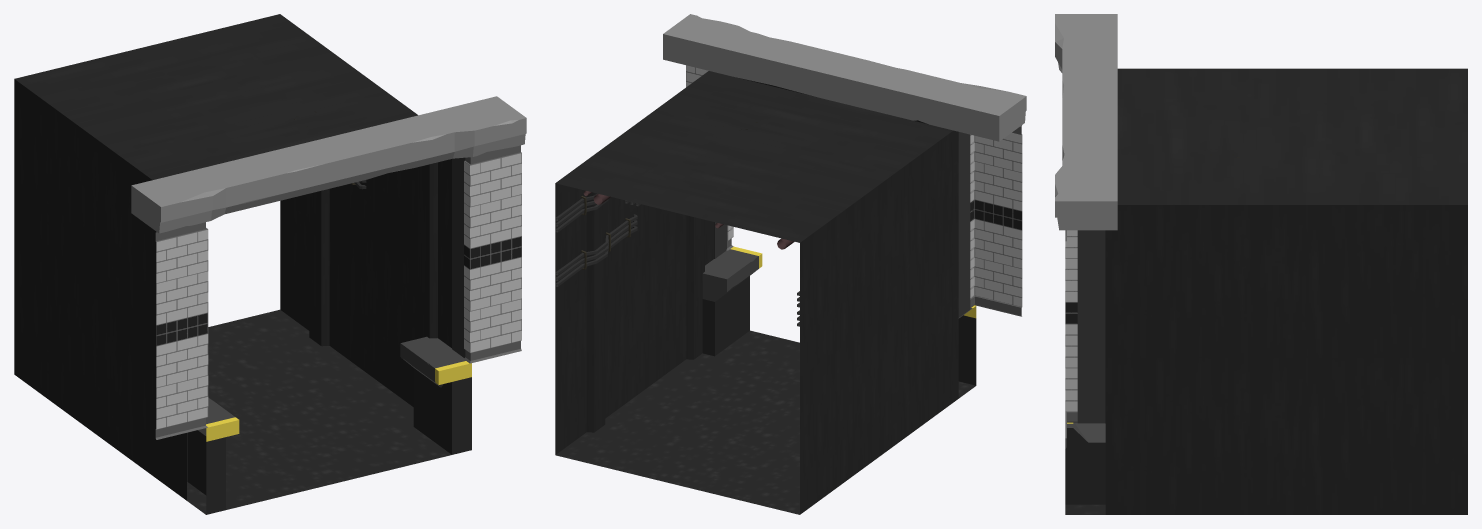
File: SW_ENV_RailTunnel_Entrance_02_FF.fbx
3 renders of one model, left to right at view 1: azimuth 30°, elevation 25°; view 2: azimuth 150°, elevation 25°; view 3: azimuth 270°, elevation 25°, orthographic. The views are drawn at different scales.
Visible parts, largest first — view 1: SW_ENV_RailTunnel_Entrance_02_FF; view 2: SW_ENV_RailTunnel_Entrance_02_FF; view 3: SW_ENV_RailTunnel_Entrance_02_FF.
Part boxes in pixels (x1,y1,x2,y2): SW_ENV_RailTunnel_Entrance_02_FF: (14, 14, 526, 514); SW_ENV_RailTunnel_Entrance_02_FF: (555, 14, 1026, 514); SW_ENV_RailTunnel_Entrance_02_FF: (1055, 14, 1467, 514).
Bounding box in the file's own units: 5.5 × 4.65 × 5.13.
